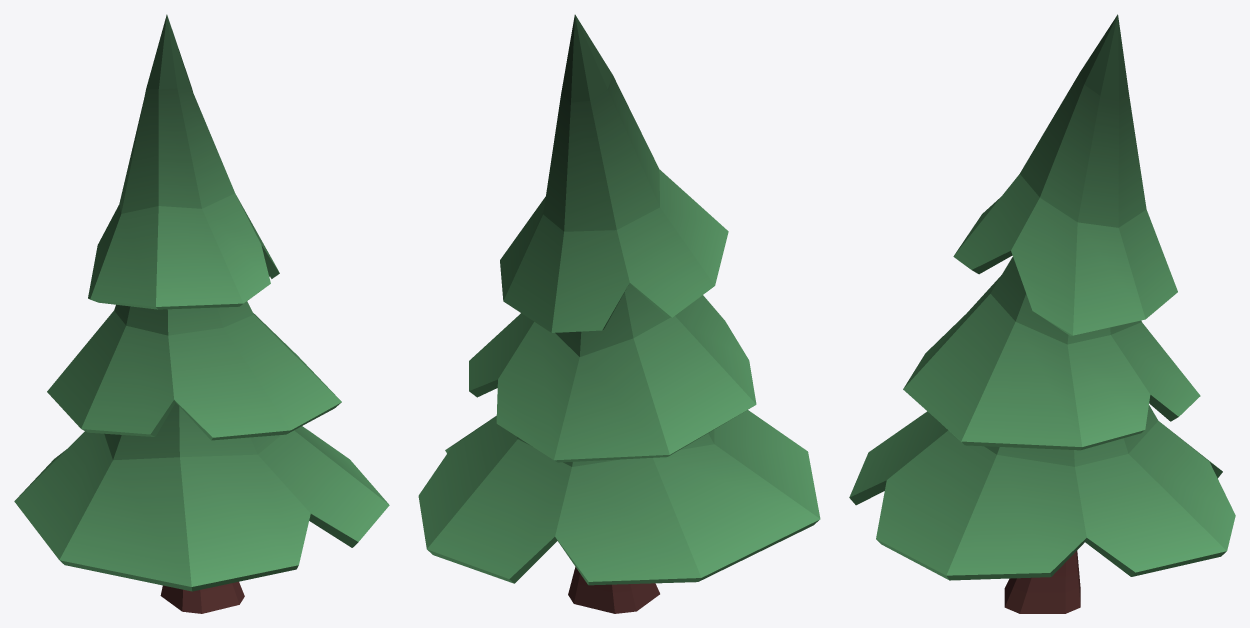
Rendered from DarkPine3.fbx.
3 renders of one model, left to right at view 1: azimuth 30°, elevation 25°; view 2: azimuth 150°, elevation 25°; view 3: azimuth 270°, elevation 25°, orthographic. The views are drawn at different scales.
Parts seen in each view (by area): view 1: DarkPine3; view 2: DarkPine3; view 3: DarkPine3.
Part boxes in pixels (x1,y1,x2,y2): DarkPine3: (14, 14, 389, 613); DarkPine3: (418, 14, 820, 613); DarkPine3: (849, 14, 1235, 613).
Bounding box in the file's own units: 366 × 613 × 368.
